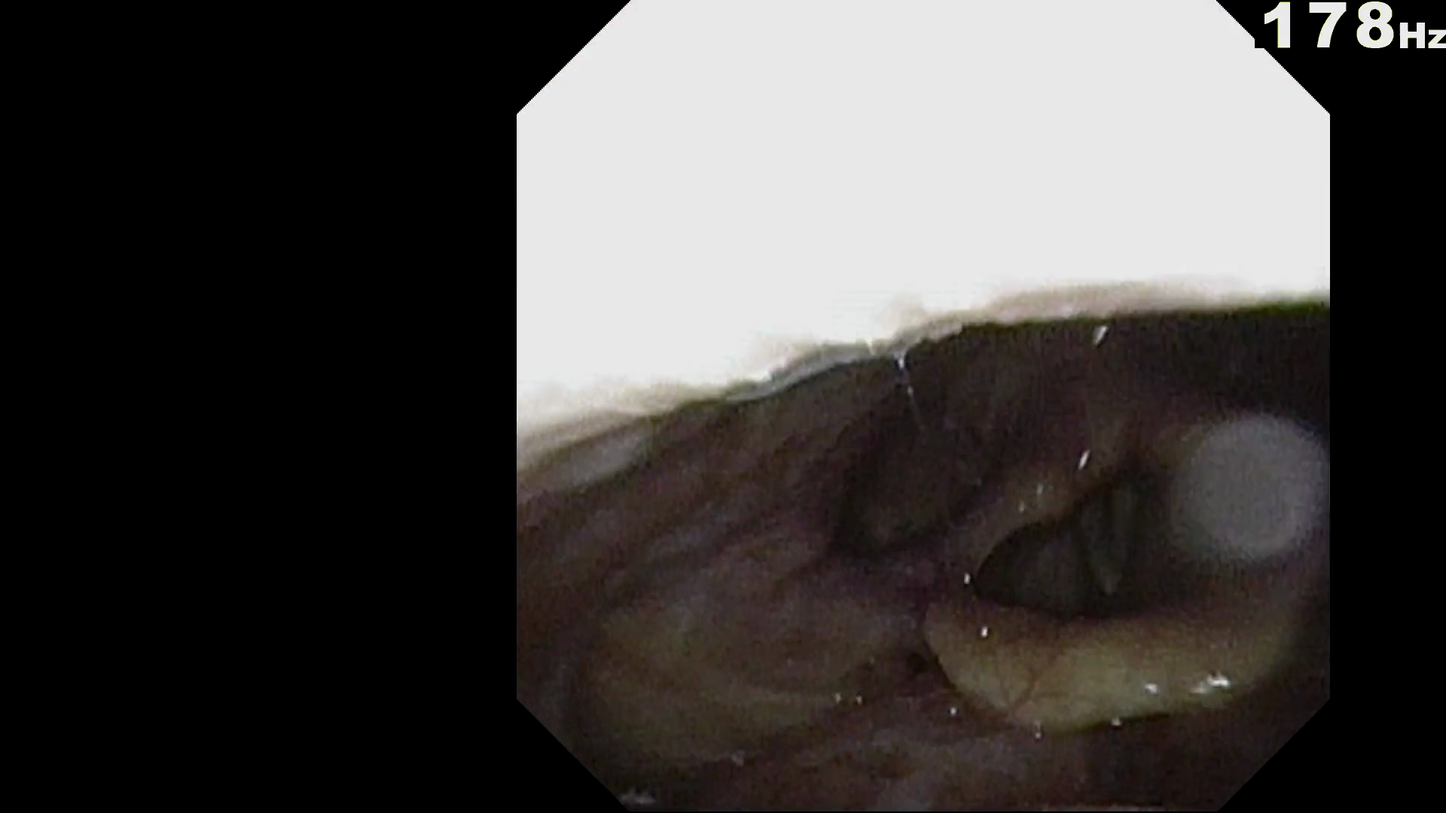epiglottis: (892, 564, 1291, 730)
trachea: (1058, 456, 1167, 587)
